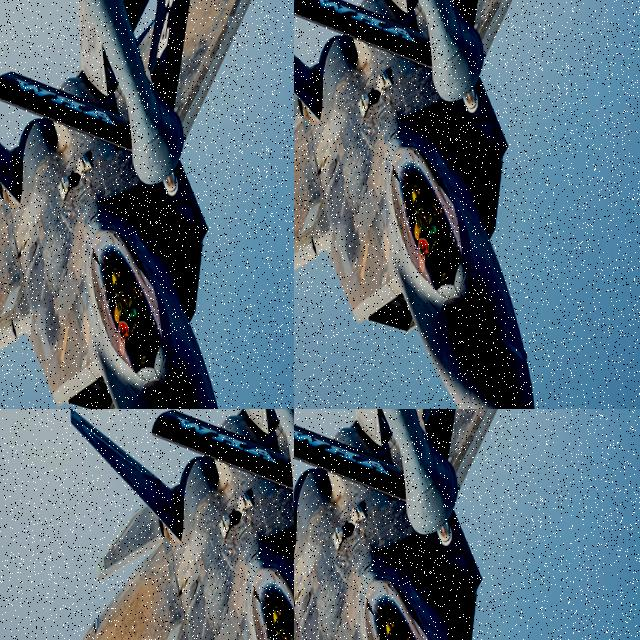Apache: (0, 409, 294, 640)
F22: (294, 0, 596, 409), (294, 409, 605, 640)
KT-1: (176, 178, 288, 342), (222, 123, 294, 369)
